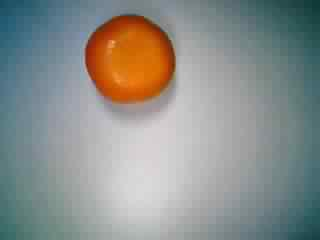orange: (81, 6, 176, 109)
